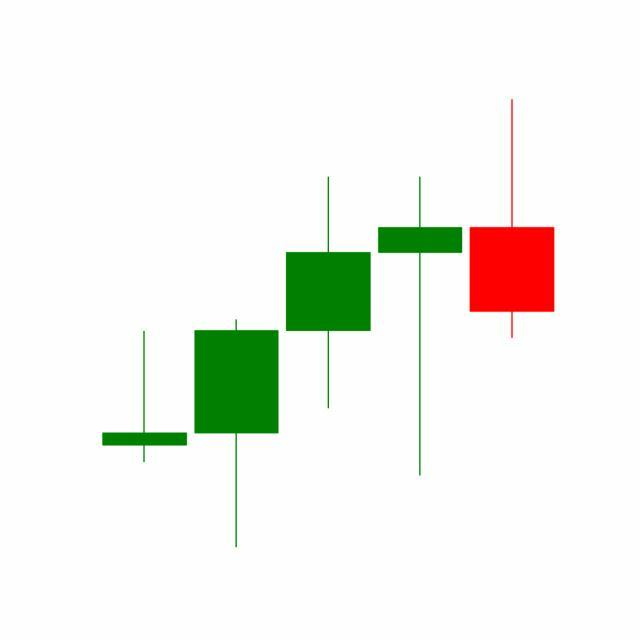Spinning Top: (374, 173, 468, 480)
